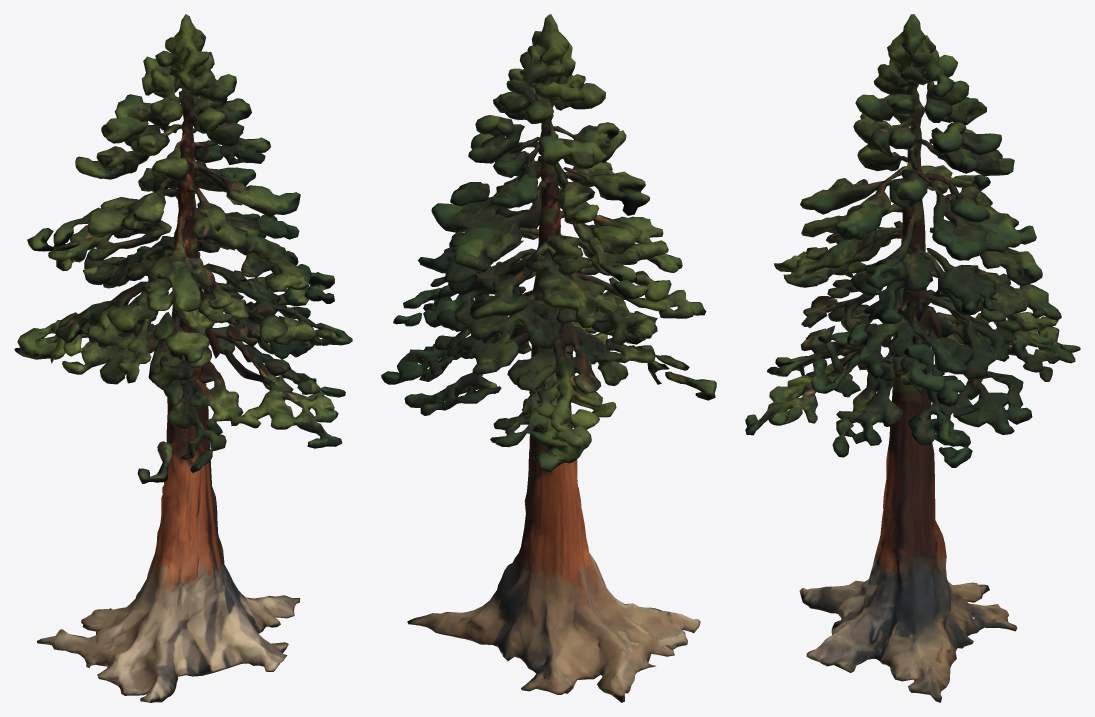
Rendered from AI_ToweringRedwoodTree.fbx.
3 renders of one model, left to right at view 1: azimuth 30°, elevation 25°; view 2: azimuth 150°, elevation 25°; view 3: azimuth 270°, elevation 25°, orthographic.
Parts seen in each view (by area): view 1: Mesh_0; view 2: Mesh_0; view 3: Mesh_0.
Boxes of the visible parts, box(x1,y1,x2,y2) form: Mesh_0: box(14, 14, 352, 702); Mesh_0: box(381, 14, 716, 702); Mesh_0: box(745, 14, 1080, 702).
Bounding box in the file's own units: 89.7 × 199 × 96.12.
1 material, 1 textured.
